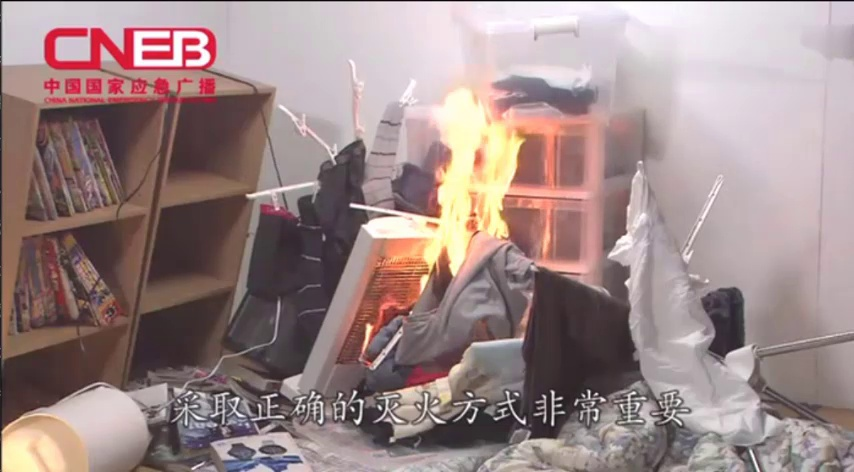fire: (404, 68, 526, 321)
